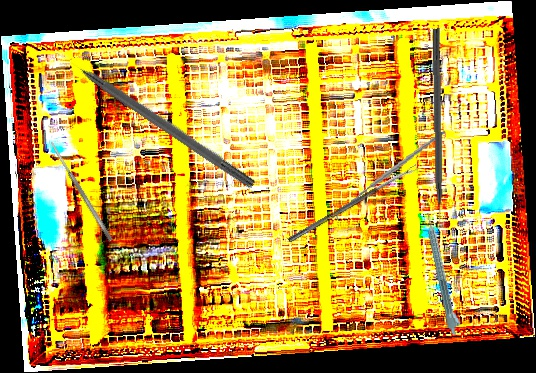Handpiece: (423, 210, 464, 337)
Hook Surgical: (53, 45, 258, 191), (327, 130, 455, 221), (430, 28, 445, 236)
Spatula Surgical: (48, 139, 114, 243)
Surgical Spoon: (287, 164, 419, 244)
